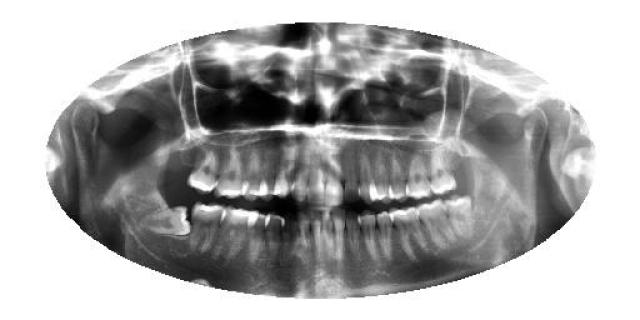Restorations: (138, 205, 192, 237)
